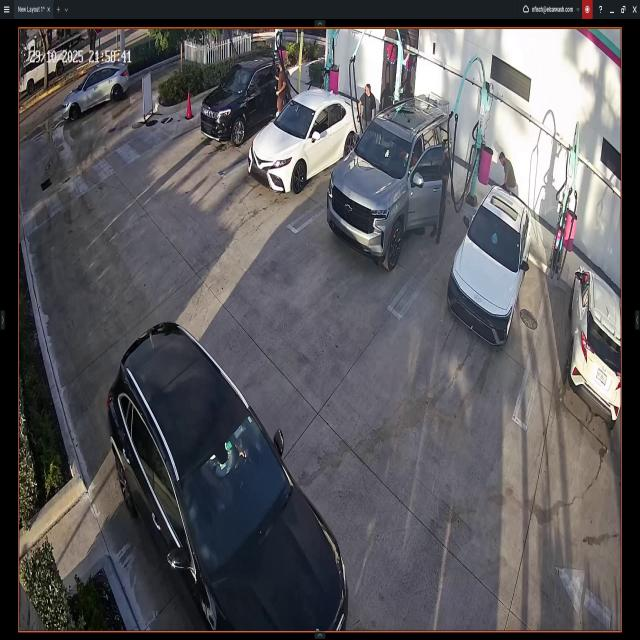Car: (108, 322, 349, 632), (330, 96, 450, 266), (449, 186, 531, 348), (249, 90, 361, 190), (568, 269, 620, 425), (200, 55, 290, 141), (62, 63, 128, 120)
